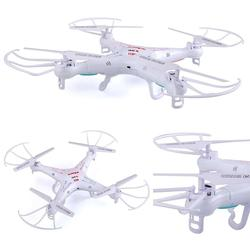drone: (3, 13, 250, 110), (1, 128, 151, 231), (153, 129, 250, 237)
